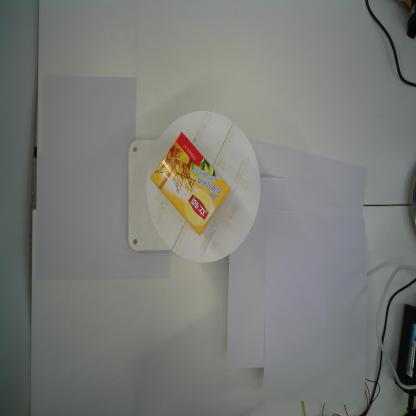Instant Drink: (150, 131, 231, 236)
